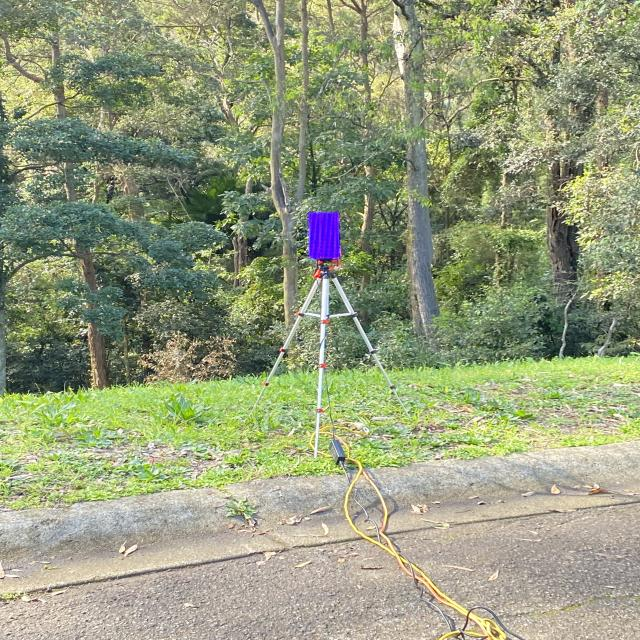matrix: (302, 208, 349, 266)
